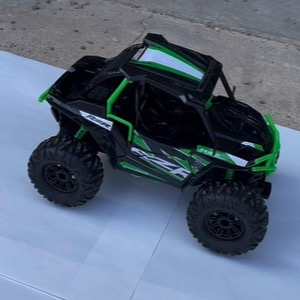polaris: (27, 33, 283, 258)
